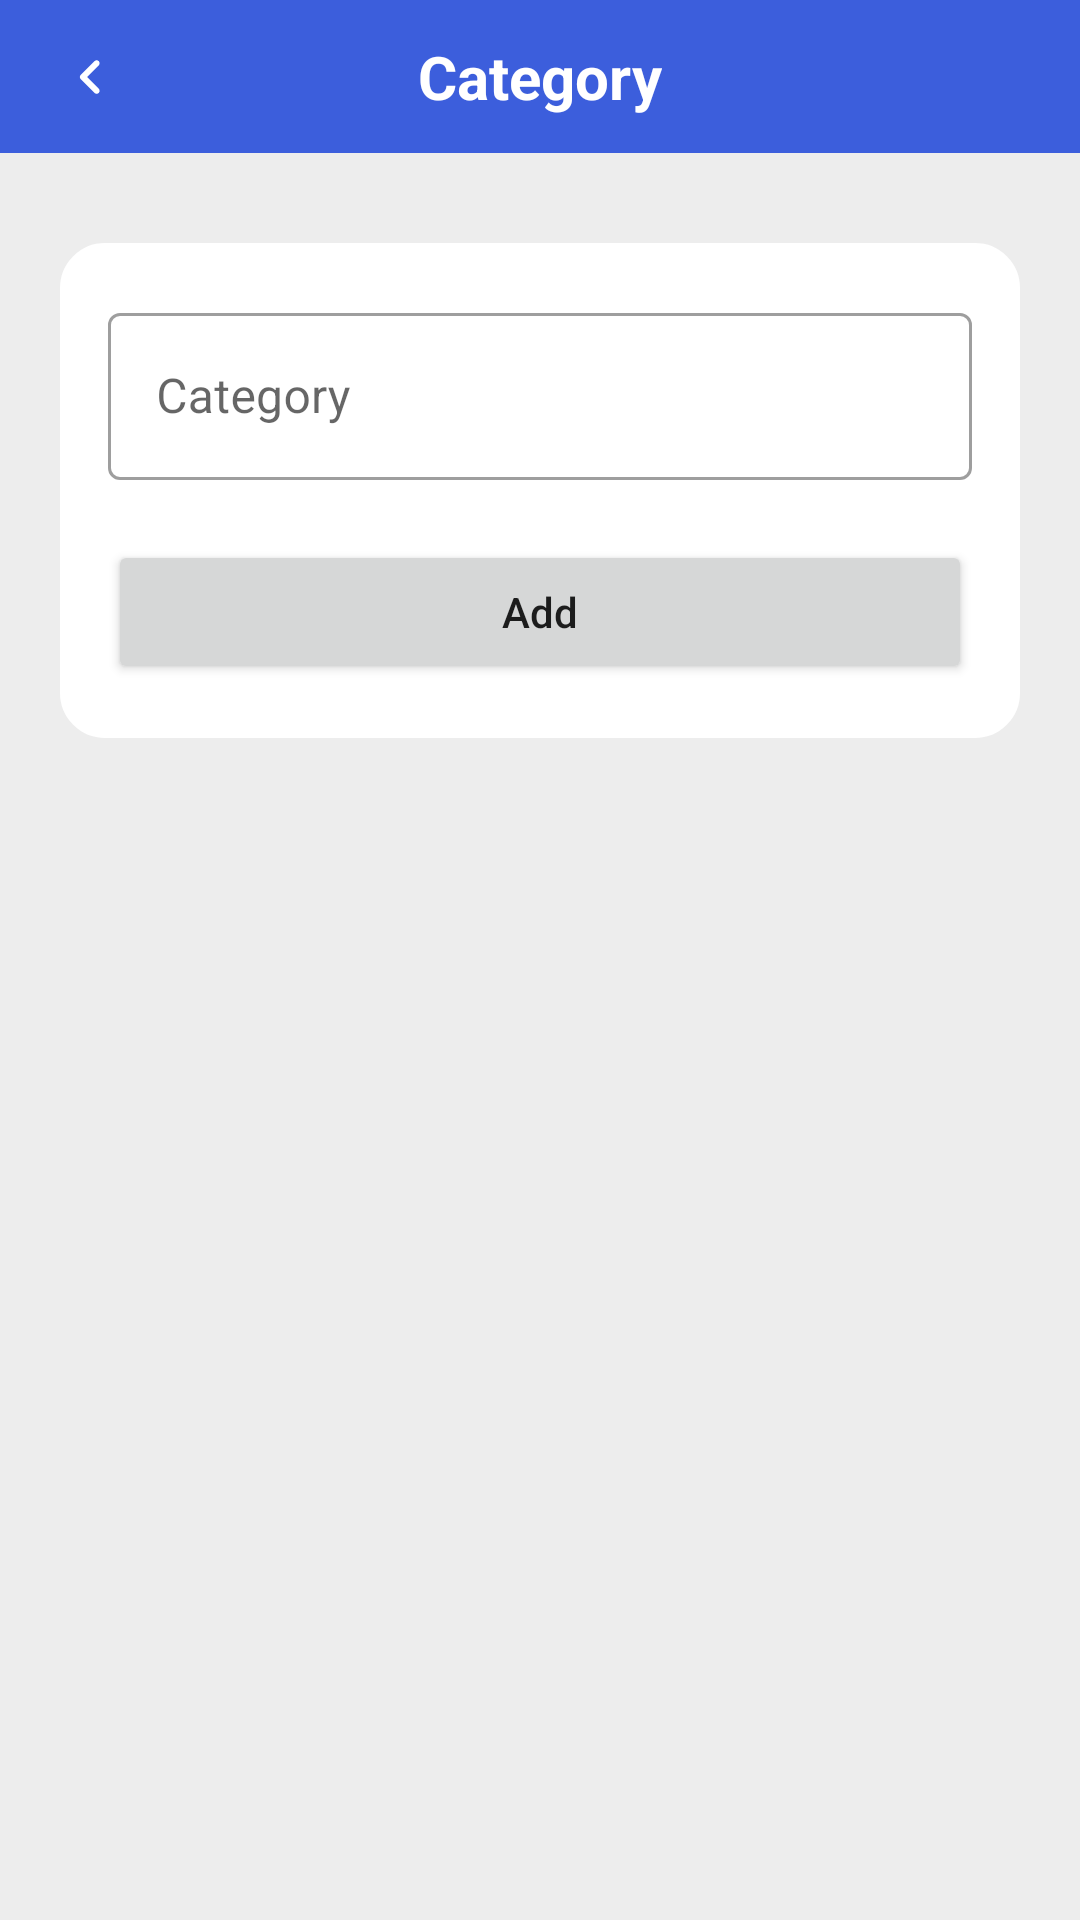

Locate icon controls on the screen. Image size 1080 × 1920, boxes as (x1, y1, x2, y2).
navigate before: (80, 60, 100, 94)
